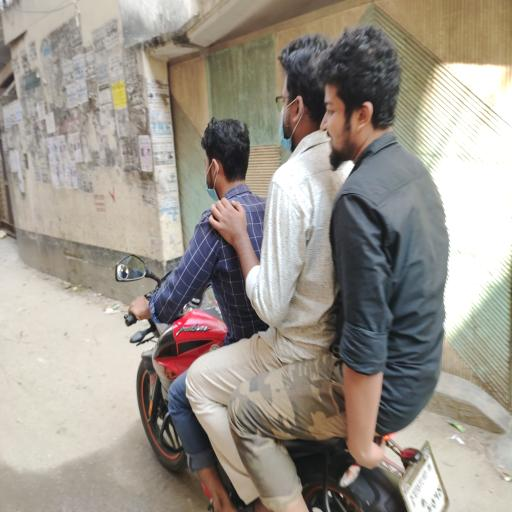overloading: (118, 22, 454, 509)
